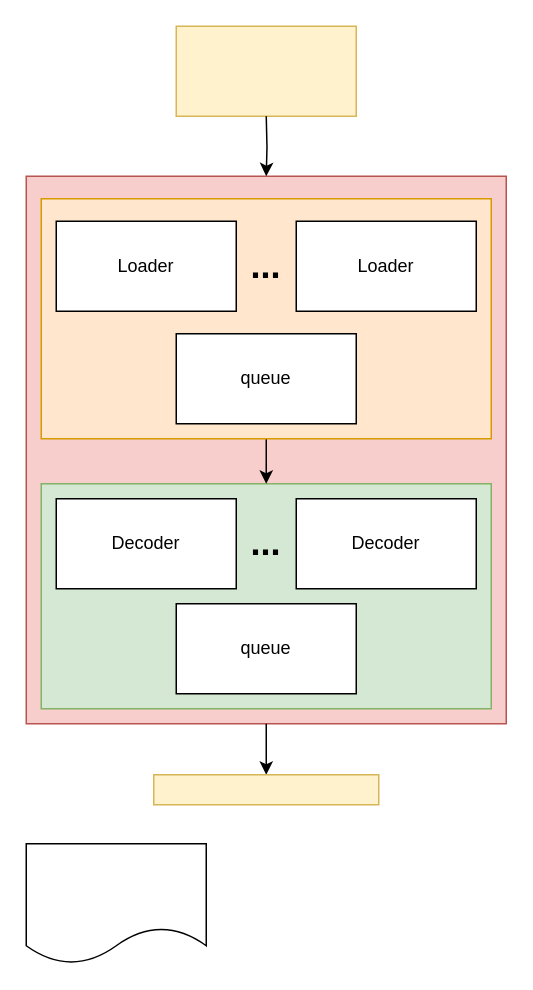
The diagram is 533 pixels wide and 990 high, and some of its shapes have lost their labels. Here are the shapes that lost their labels. From the top down, the centre of each, then its label:
point 265,70: *.sang
point 265,789: Images, Labels
